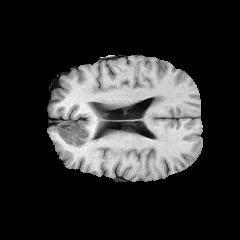glioma: (59, 121, 97, 148)
